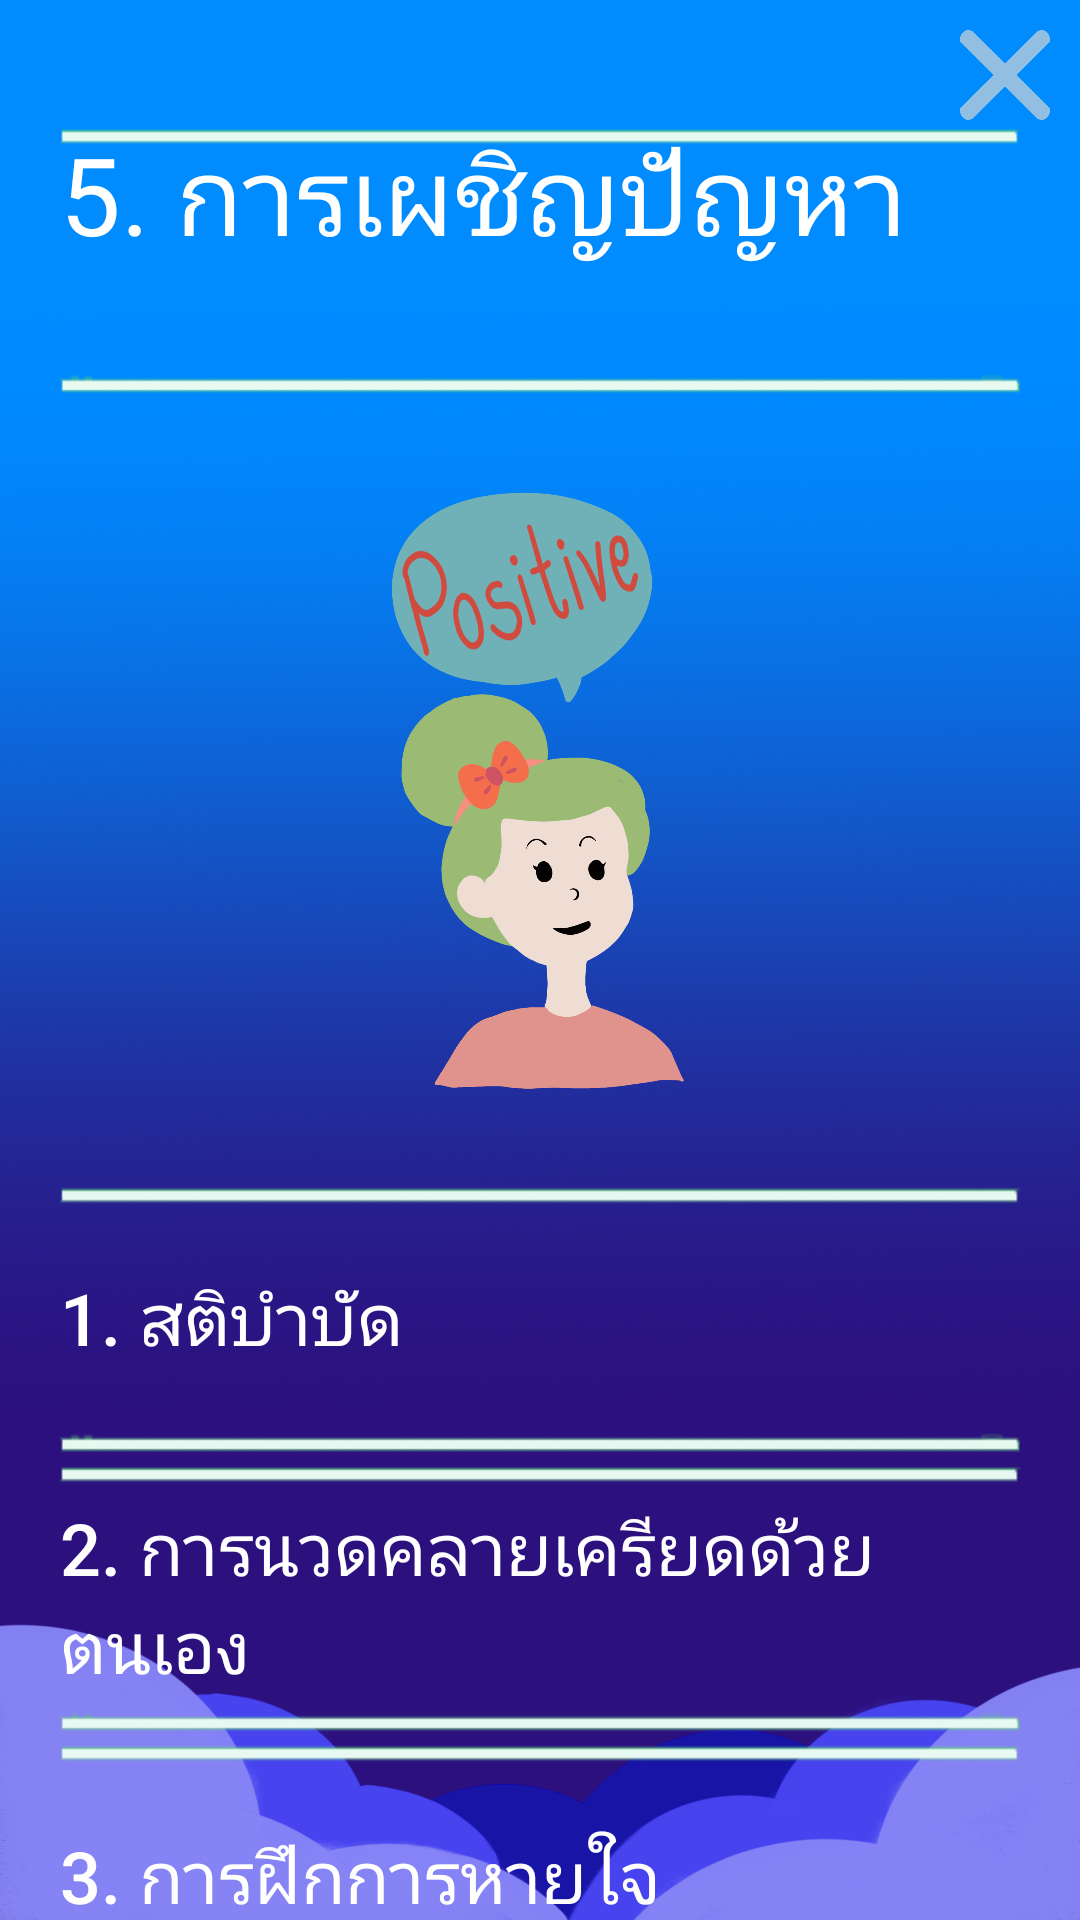

Icons on this 1080px×1920px Android screen, each with its box as (x1, y1, x2, y2):
exit: (960, 30, 1050, 120)
